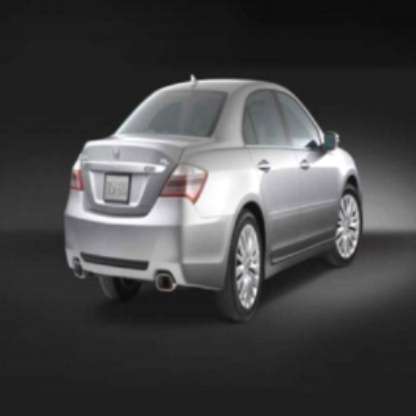Vehicle: (62, 74, 365, 324)
